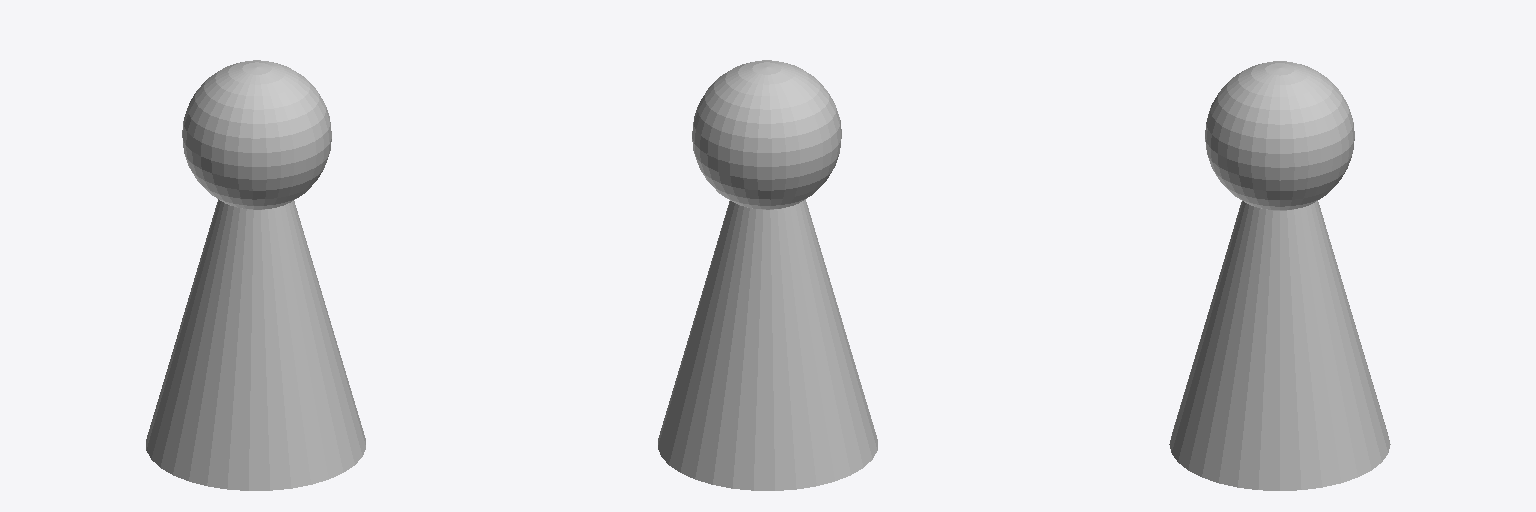
Rendered from Spielfigur.obj.
3 renders of one model, left to right at view 1: azimuth 30°, elevation 25°; view 2: azimuth 150°, elevation 25°; view 3: azimuth 270°, elevation 25°, orthographic.
Parts seen in each view (by area): view 1: Cone; view 2: Cone; view 3: Cone.
Boxes of the visible parts, <box> form: Cone: <box>146,60,365,490</box>; Cone: <box>658,60,877,490</box>; Cone: <box>1169,61,1390,490</box>.
Bounding box in the file's own units: 1.41 × 2.66 × 1.41.